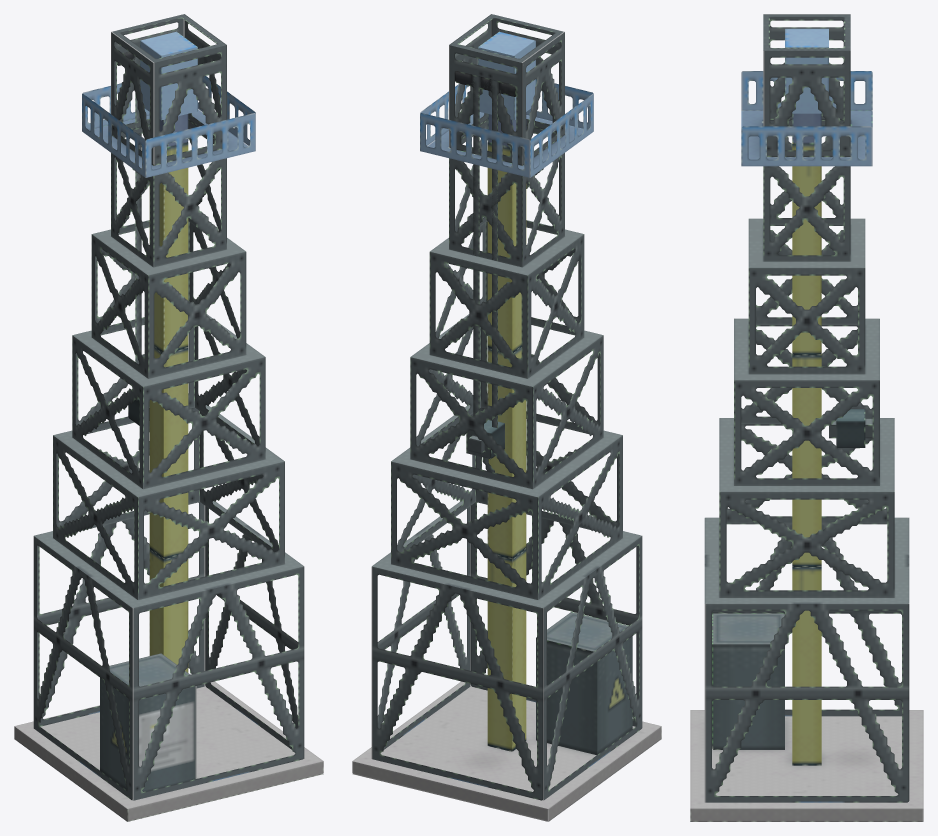
File: oil_derrick.obj
3 views of the same model, side by side, from view 1: azimuth 30°, elevation 25°; view 2: azimuth 150°, elevation 25°; view 3: azimuth 270°, elevation 25° (orthographic). The views are drawn at different scales.
Bounding box in the file's own units: 2 × 6.99 × 2.
